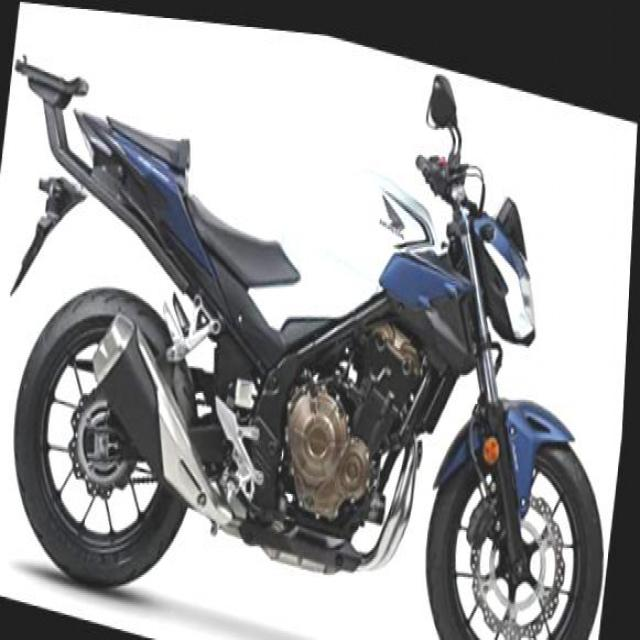CB500F: (0, 29, 638, 638)
